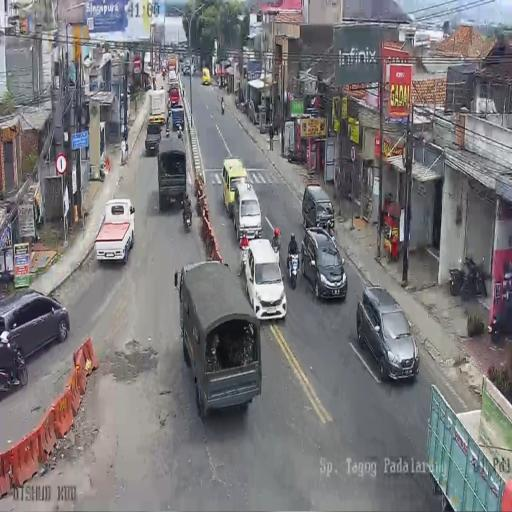car: (356, 284, 419, 380), (1, 290, 69, 375), (241, 240, 286, 321), (302, 227, 348, 300), (232, 184, 261, 242), (301, 184, 335, 232), (144, 122, 162, 155), (170, 105, 184, 132), (168, 86, 180, 107), (202, 67, 211, 86), (182, 66, 190, 76)
motorcycle: (450, 257, 487, 300), (491, 294, 512, 343), (286, 248, 300, 289), (286, 147, 305, 165), (182, 198, 192, 230), (165, 118, 170, 138), (240, 100, 247, 114), (177, 125, 183, 141), (220, 101, 225, 115)
truck: (175, 260, 262, 416), (156, 136, 186, 210), (148, 88, 166, 125), (143, 51, 151, 75), (168, 55, 178, 71), (168, 70, 177, 86)
